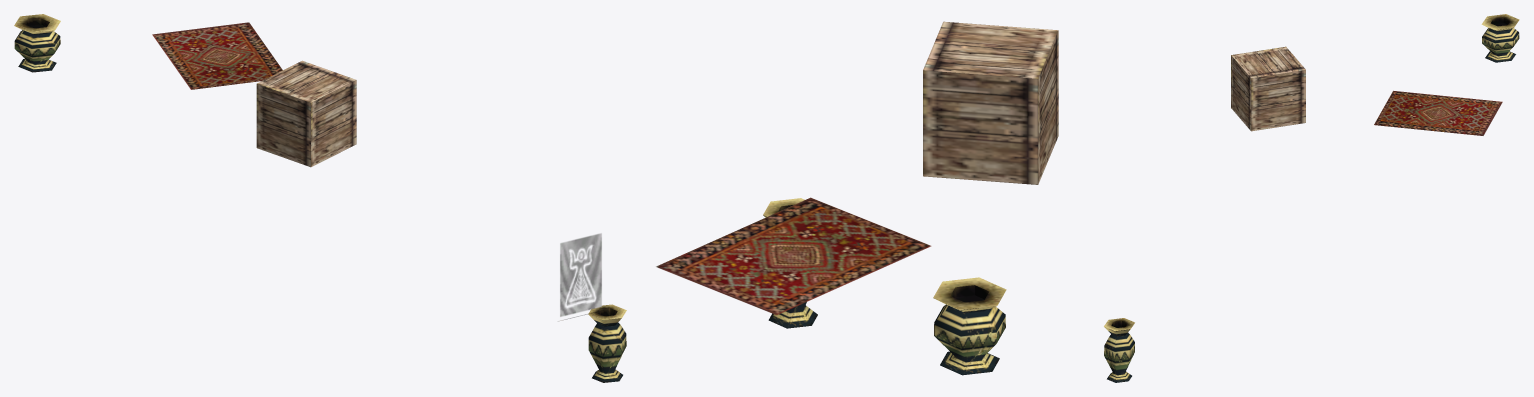
The model's file is kart_house_c_1.glb.
3 renders of one model, left to right at view 1: azimuth 30°, elevation 25°; view 2: azimuth 150°, elevation 25°; view 3: azimuth 270°, elevation 25°, orthographic. The views are drawn at different scales.
Parts seen in each view (by area): view 1: Object15; view 2: Object15; view 3: Object15.
Boxes of the visible parts, x1,y1,x2,y2 form: Object15: (14, 14, 626, 382); Object15: (656, 21, 1058, 375); Object15: (1104, 14, 1519, 382).
Size of the model in its own units: 9.15 by 6.52 by 11.09.
Materials: 1 (1 with a texture image).
